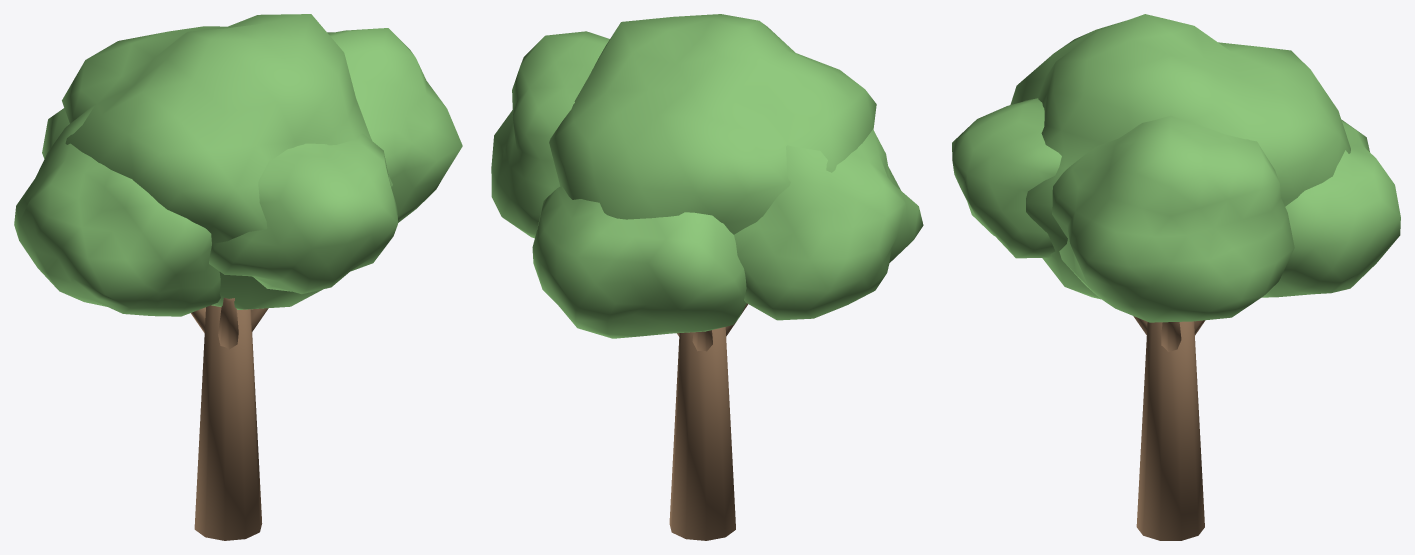
The model's file is Tree_Round_0.fbx.
The picture shows the model from 3 angles, left to right: view 1: azimuth 30°, elevation 25°; view 2: azimuth 150°, elevation 25°; view 3: azimuth 270°, elevation 25°; orthographic projection.
Parts seen in each view (by area): view 1: Tree_Round_0; view 2: Tree_Round_0; view 3: Tree_Round_0.
Boxes of the visible parts, x1,y1,x2,y2 form: Tree_Round_0: (14, 14, 462, 540); Tree_Round_0: (491, 14, 923, 540); Tree_Round_0: (952, 14, 1400, 540).
Bounding box in the file's own units: 4.28 × 5.15 × 4.2.
